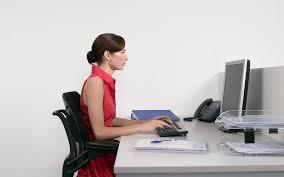Good Sitting Posture: (57, 19, 199, 167)
